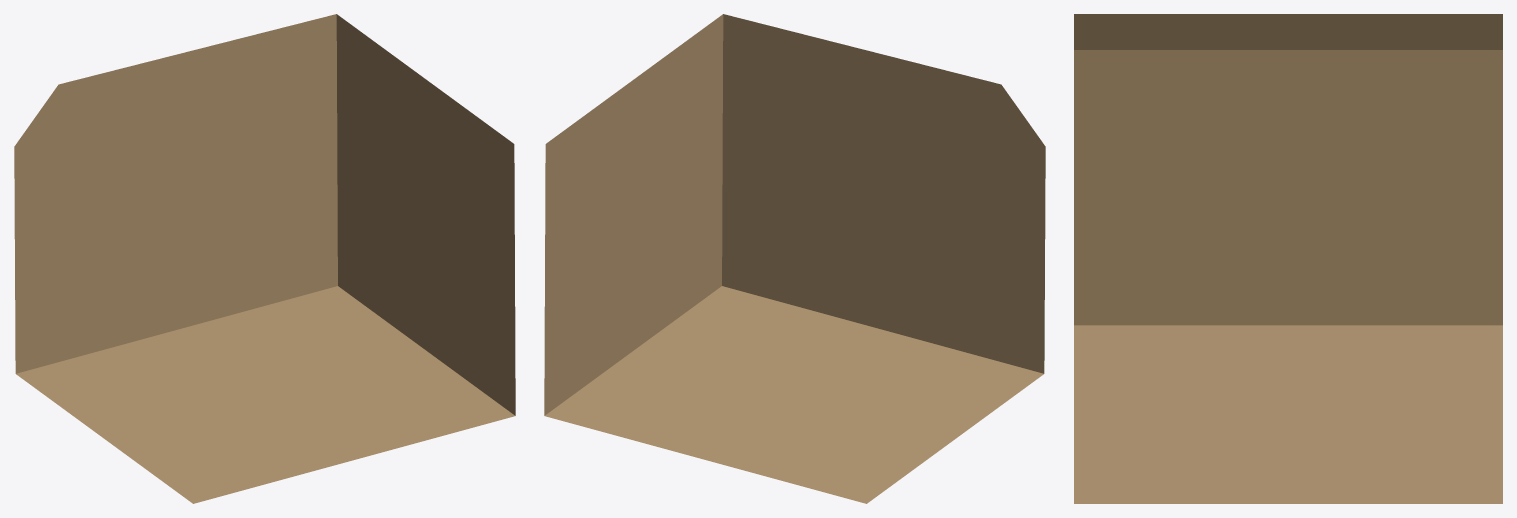
The picture shows the model from 3 angles, left to right: view 1: azimuth 30°, elevation 25°; view 2: azimuth 150°, elevation 25°; view 3: azimuth 270°, elevation 25°; orthographic projection. The views are drawn at different scales.
Parts seen in each view (by area): view 1: 0_0_1_1_3_2_0_2_2; view 2: 0_0_1_1_3_2_0_2_2; view 3: 0_0_1_1_3_2_0_2_2.
Boxes of the visible parts, x1,y1,x2,y2 form: 0_0_1_1_3_2_0_2_2: [14, 14, 515, 503]; 0_0_1_1_3_2_0_2_2: [544, 14, 1045, 503]; 0_0_1_1_3_2_0_2_2: [1074, 14, 1502, 503].
Bounding box in the file's own units: 31.54 × 26.22 × 30.
